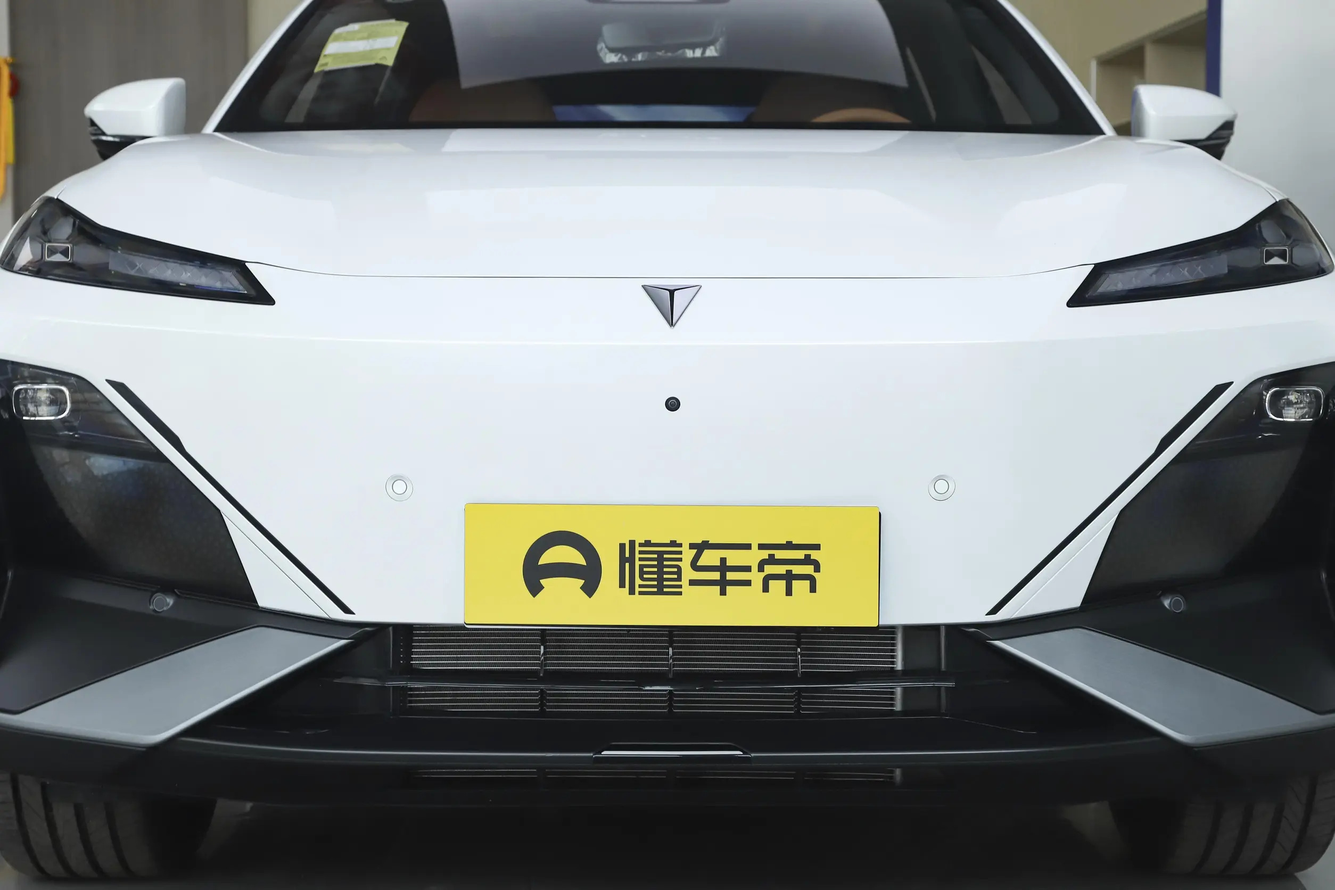Deepal: (641, 284, 702, 327)
